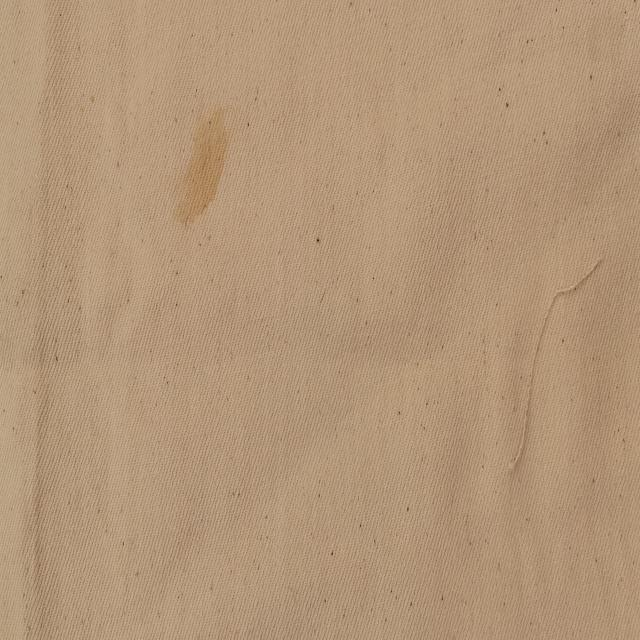taaaches: (176, 94, 231, 239)
